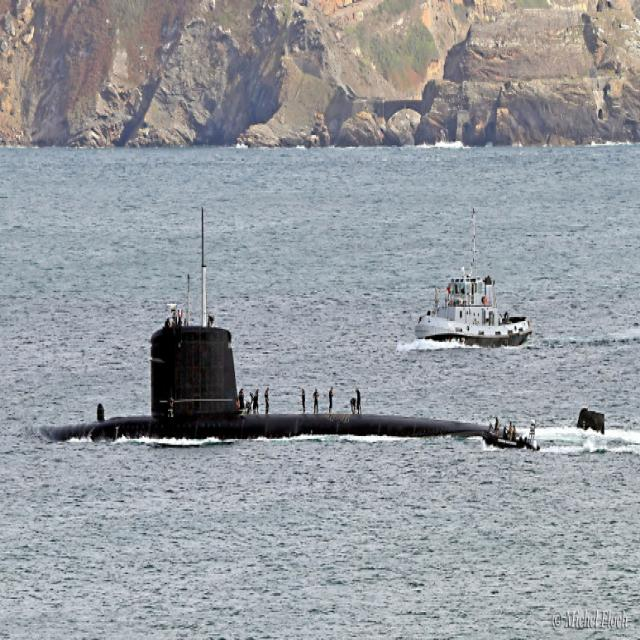submarine: (23, 320, 611, 449)
